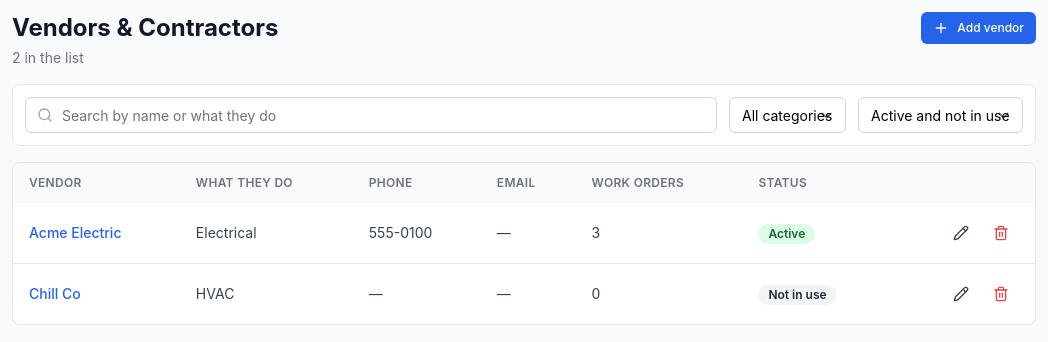
it: VendorsPage › searches by name as you type
Check: the button "Acme Electric" is shown, box [29,223,122,243]
In the search field named "Search vendors": point(371, 115) [25,97,717,133], type "chill"
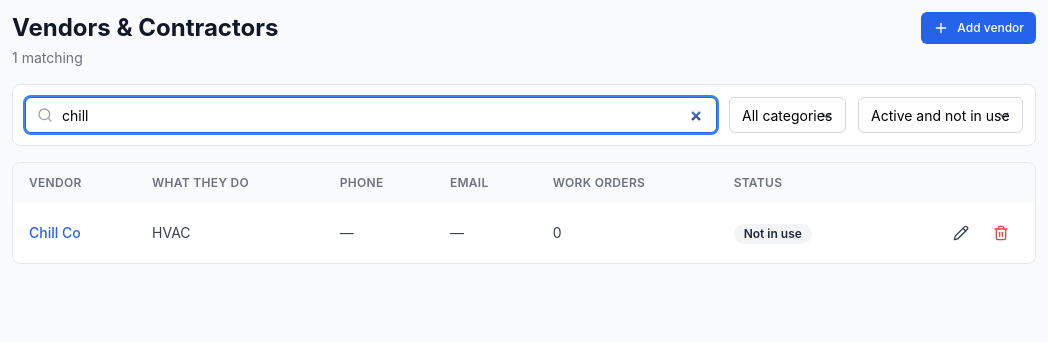
Check: the button "Chill Co" is shown, box [29,223,81,243]
Check: the button "Acme Electric" is gone
Check: the text "1 matching" is shown, box [12,49,83,66]
